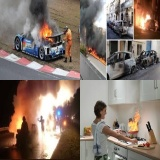fire: (36, 89, 55, 139), (87, 45, 106, 66), (40, 20, 53, 42), (128, 109, 140, 130), (140, 12, 150, 28), (17, 115, 21, 129)
